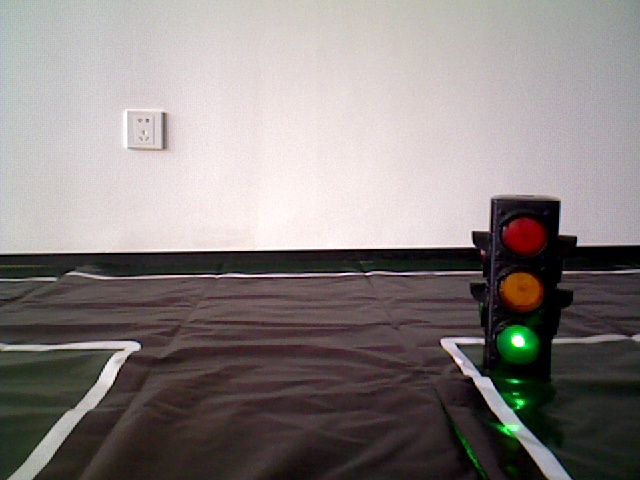green: (492, 207, 545, 368)
